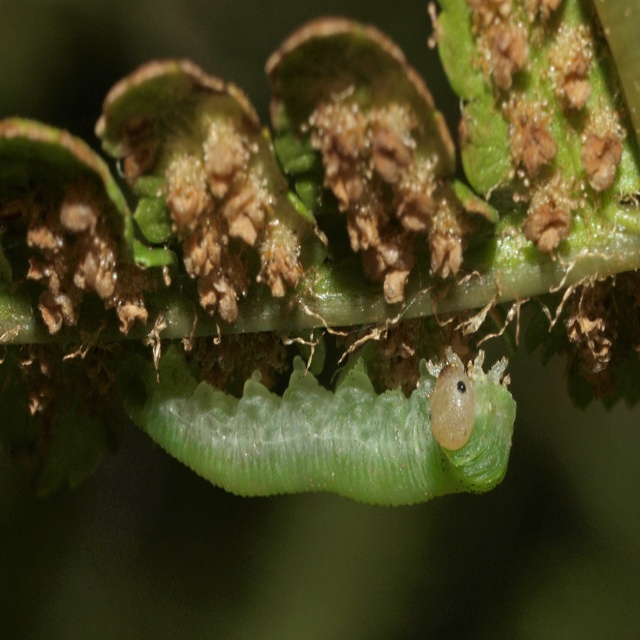Caterpillar: (115, 321, 514, 517)
